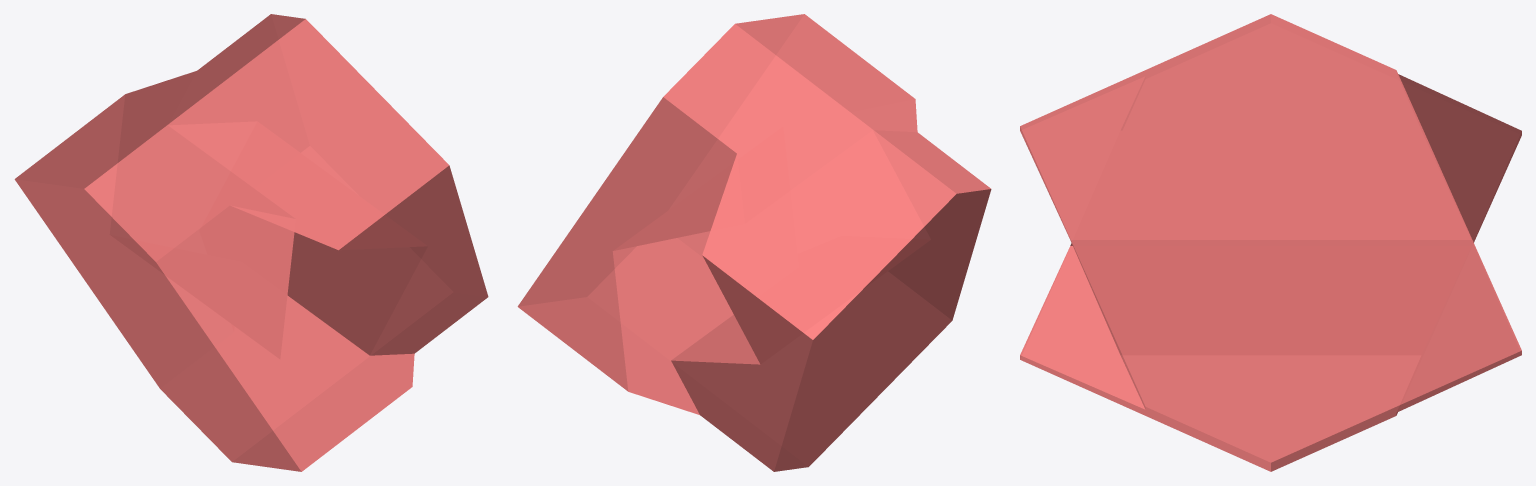
The model's file is HexagonalToroid_P.obj.
3 views of the same model, side by side, from view 1: azimuth 30°, elevation 25°; view 2: azimuth 150°, elevation 25°; view 3: azimuth 270°, elevation 25° (orthographic). The views are drawn at different scales.
Size of the model in its own units: 20 by 22 by 20.
